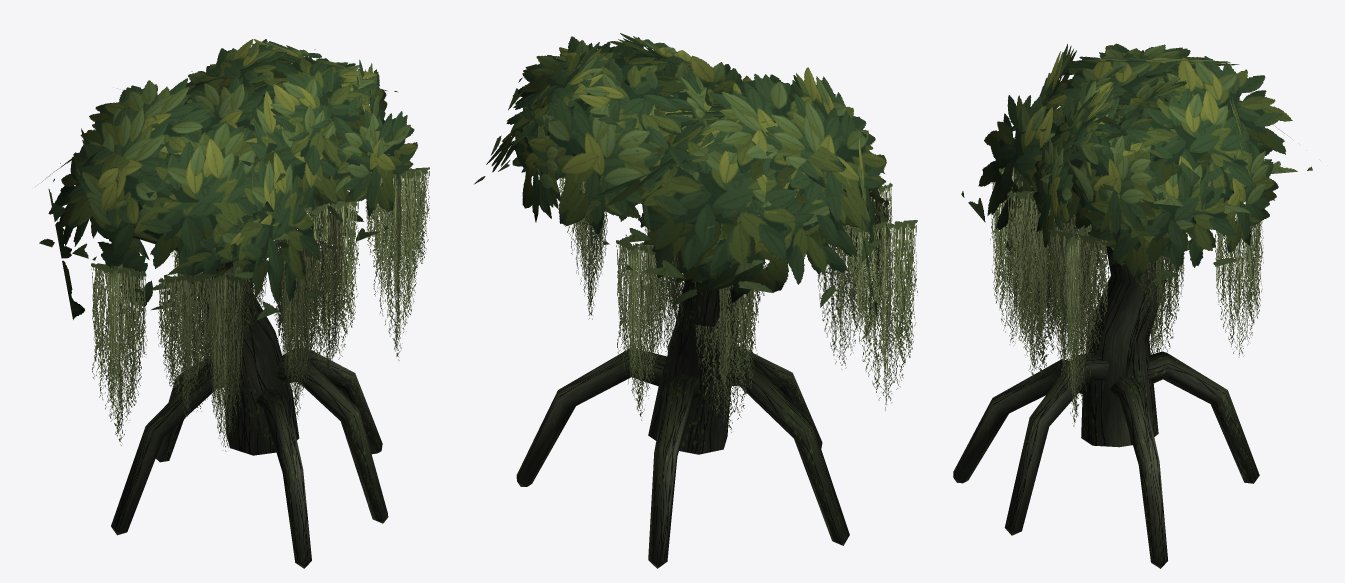
The model's file is mirewell_bog_tree_b.glb.
The picture shows the model from 3 angles, left to right: view 1: azimuth 30°, elevation 25°; view 2: azimuth 150°, elevation 25°; view 3: azimuth 270°, elevation 25°; orthographic projection. The views are drawn at different scales.
Parts seen in each view (by area): view 1: mirewell_bog_tree_b; view 2: mirewell_bog_tree_b; view 3: mirewell_bog_tree_b.
Boxes of the visible parts, x1,y1,x2,y2 form: mirewell_bog_tree_b: [35, 39, 429, 568]; mirewell_bog_tree_b: [474, 33, 917, 568]; mirewell_bog_tree_b: [953, 43, 1312, 568].
Size of the model in its own units: 2.74 by 3.36 by 2.55.
Materials: 3 (3 with a texture image).
